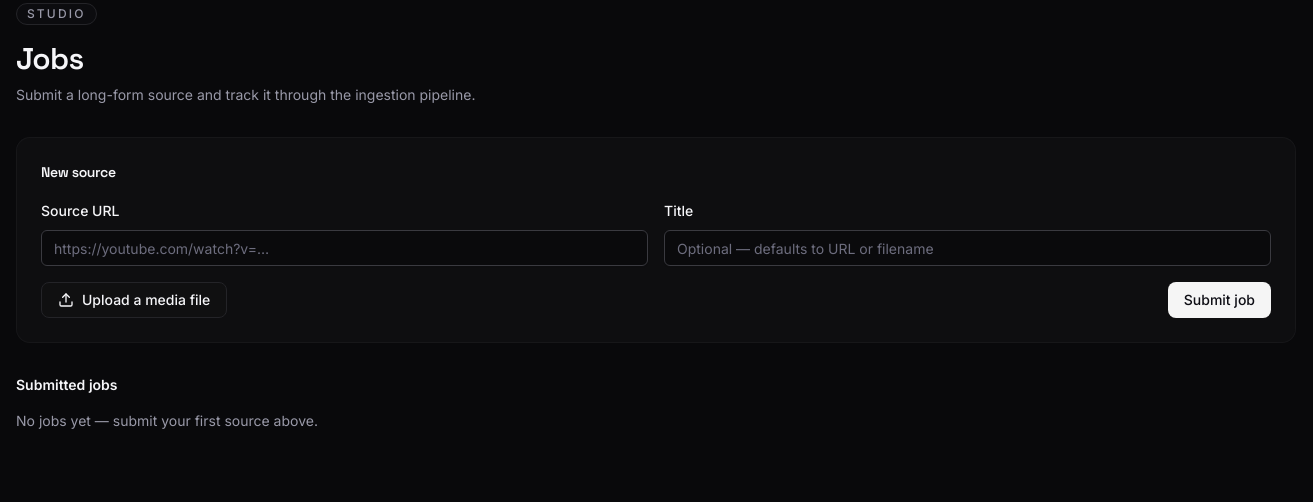
JobsPage › submits a new job via the url form and refreshes the list
This screenshot has width=1313, height=502.
Check: the text "No jobs yet — submit your first source above." is shown, box [16,412,318,429]
Type "https://example.com/new.mp4" into the field labelled "Source URL". click: (344, 248)
box: [41,230,648,266]
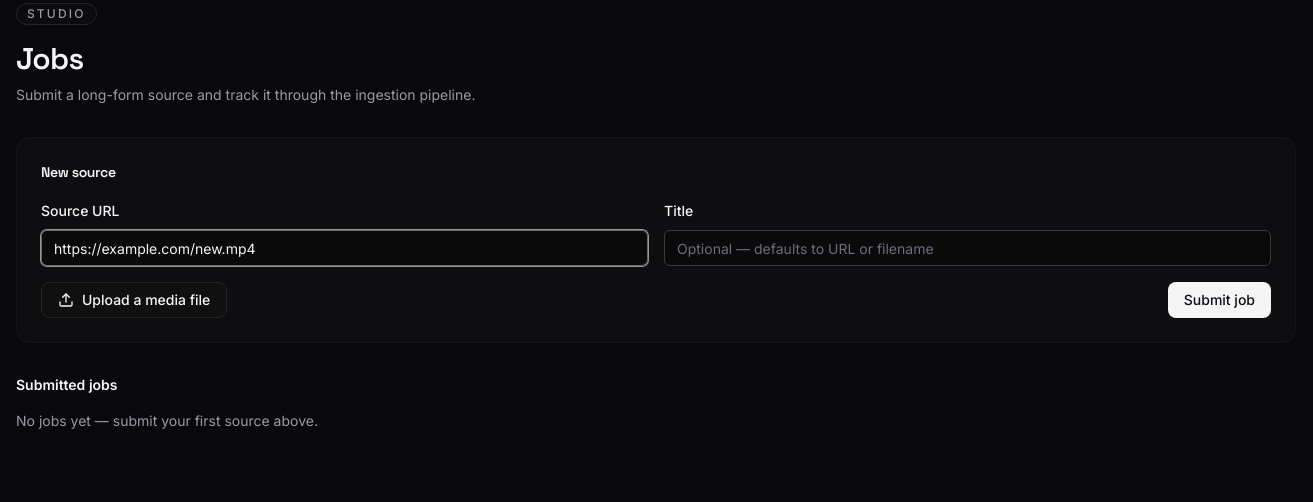
Type "New video" into the field labelled "Title". click: (968, 248)
box: [664,230,1271,266]
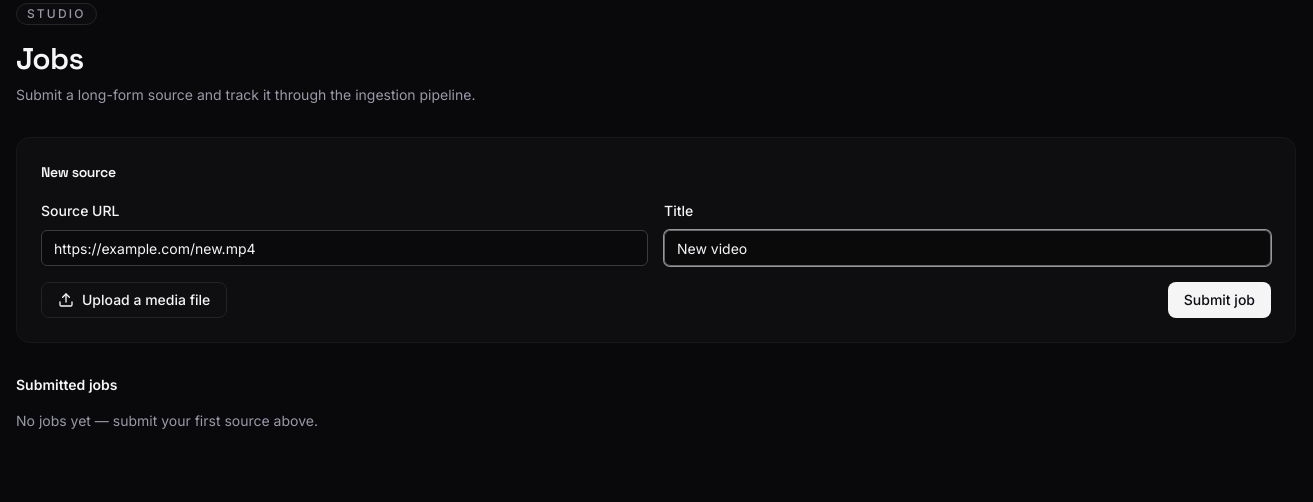
Click the button "Submit job". click: (1219, 300)
box: [1168,282,1271,318]
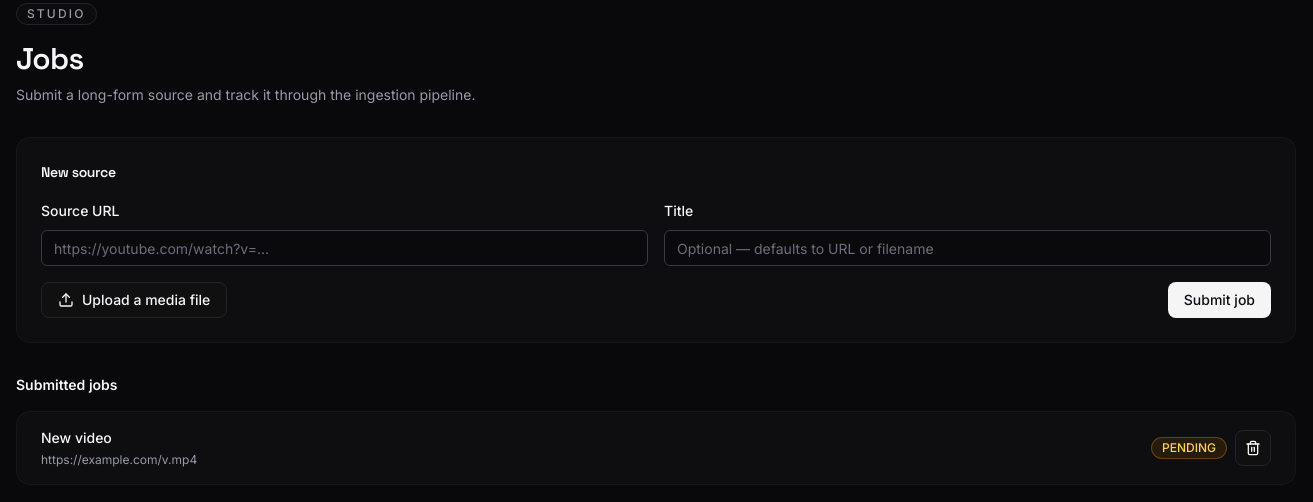
Check: the text "New video" is shown, box [41,429,112,446]
